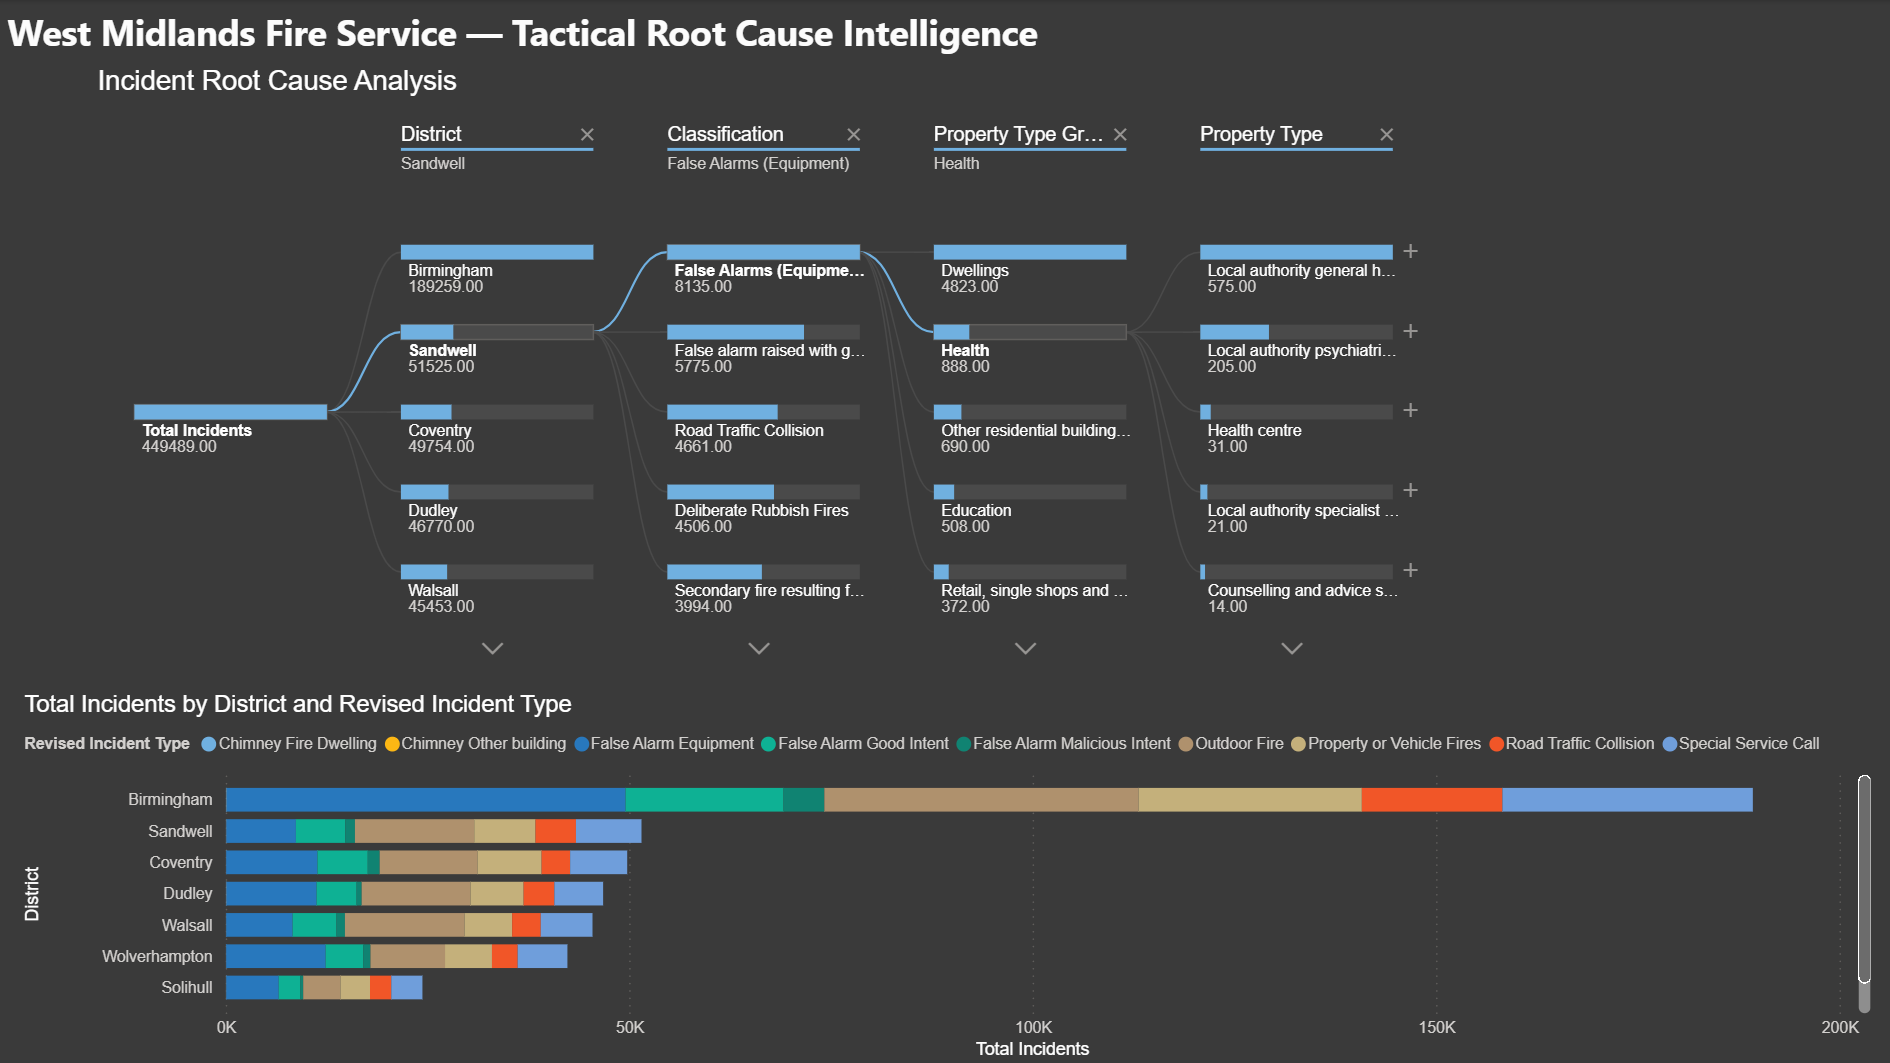

Layout of this report page (visuals, bound fields, positions):
{"tool":"powerbi","page":{"name":"Tactical Intelligence","canvas":[1280,720],"ordinal":1},"visuals":[{"type":"barChart","fields":{"Category":["wmfs-incidents.District"],"Y":["_Measures.Total Incidents"],"Series":["wmfs-incidents.Revised Incident Type"]},"box":[11.8,466.6,1256.4,253.3],"z":0},{"type":"decompositionTreeVisual","title":"Incident Root Cause Analysis","fields":{"Analyze":["_Measures.Total Incidents"],"ExplainBy":["wmfs-incidents.District","wmfs-incidents.Classification","wmfs-incidents.Property Type Group","wmfs-incidents.Property Type","wmfs-incidents.Source of Ignition"]},"box":[85.7,43.8,1107.9,422.7],"z":1000},{"type":"textbox","box":[0,0,725.1,43.8],"z":2000}]}

Visuals, with their boxes in screenshot pixels (x1, y1, x2, y2), scaled from the page's 1280x720 canvas onto the 1890x1063 screenshot:
barChart - wmfs-incidents.District x _Measures.Total Incidents: bbox(17, 689, 1873, 1062)
"Incident Root Cause Analysis" decompositionTreeVisual: bbox(127, 65, 1762, 689)
textbox: bbox(0, 0, 1071, 65)
